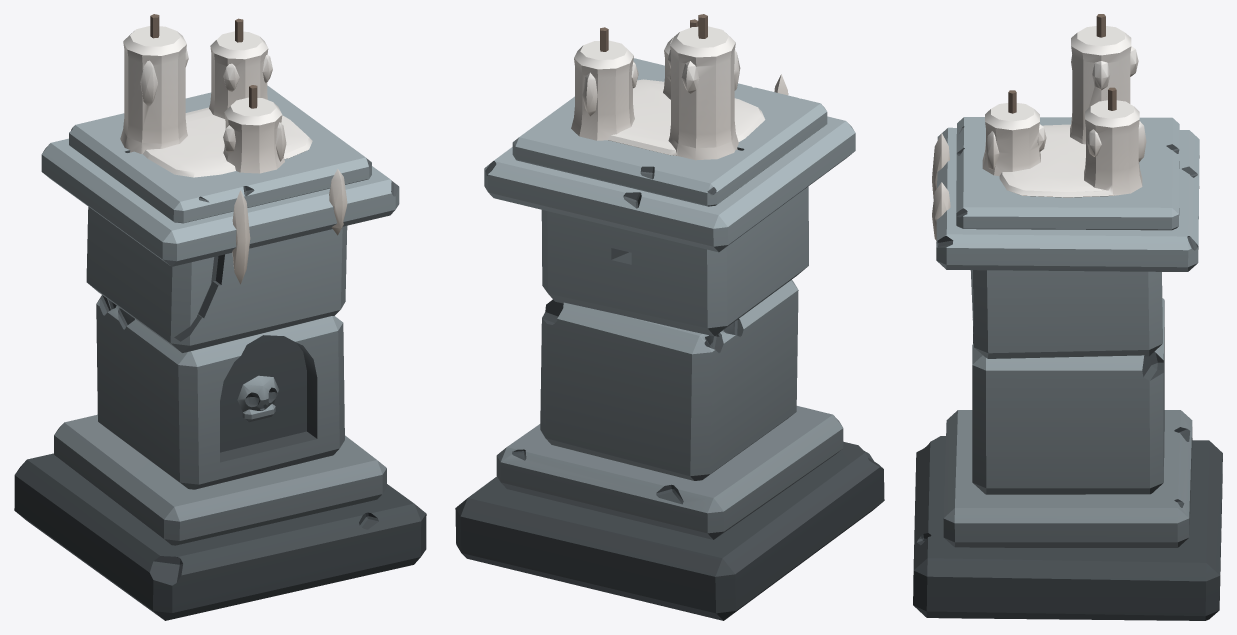
File: grave_pedestal_candles.glb
3 renders of one model, left to right at view 1: azimuth 30°, elevation 25°; view 2: azimuth 150°, elevation 25°; view 3: azimuth 270°, elevation 25°, orthographic. The views are drawn at different scales.
Parts seen in each view (by area): view 1: grave_pedestal_candles; view 2: grave_pedestal_candles; view 3: grave_pedestal_candles.
Boxes of the visible parts, bbox=[...] form: grave_pedestal_candles: bbox=[14, 14, 426, 620]; grave_pedestal_candles: bbox=[455, 14, 884, 620]; grave_pedestal_candles: bbox=[913, 14, 1222, 620].
Bounding box in the file's own units: 1.13 × 2.07 × 1.12.
Materials: 1 (1 with a texture image).
